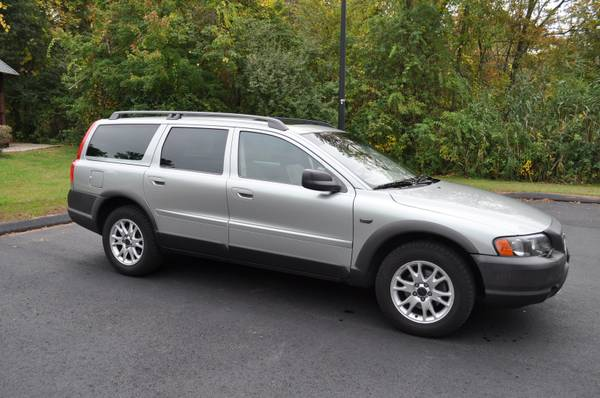volvo: (68, 98, 575, 342)
